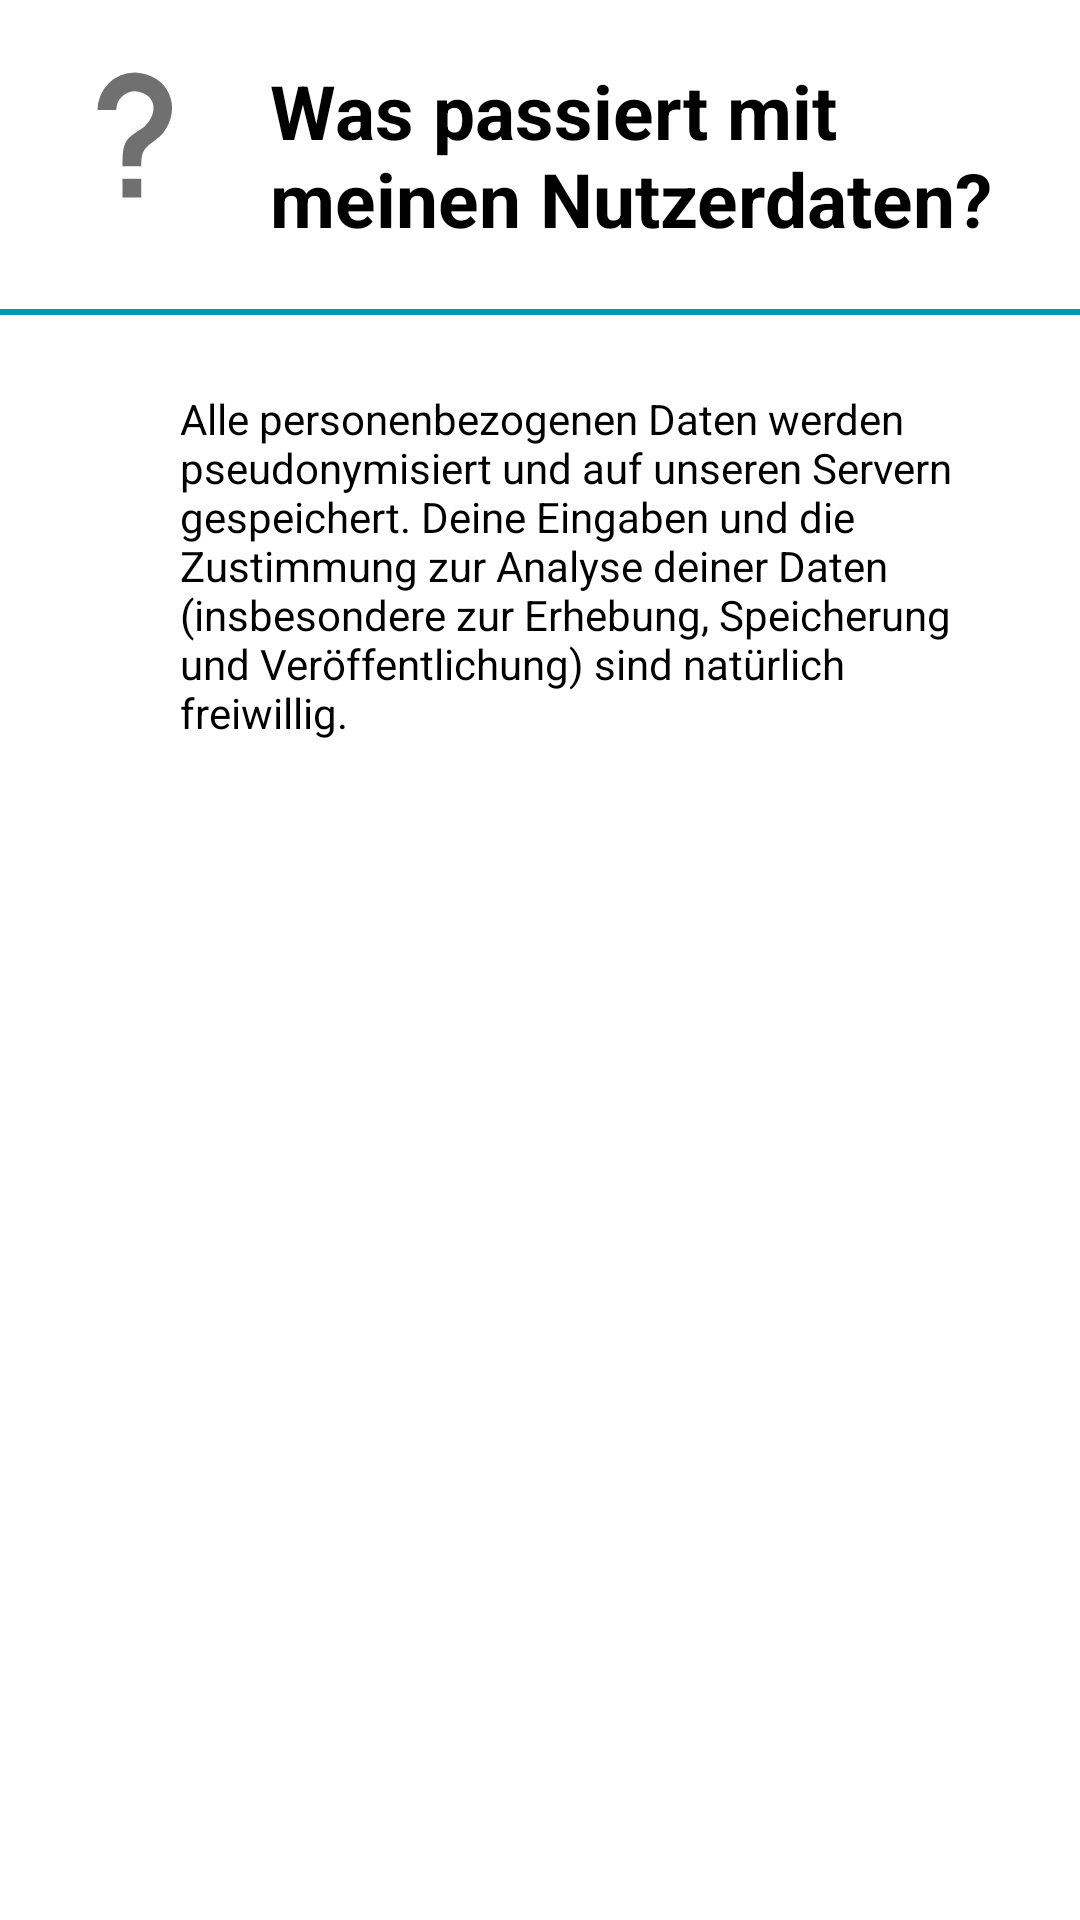

Icon bounding boxes for this 1080×1920 phone screenshot, format (x1, y1, x2, y2):
help: (97, 72, 172, 198)
